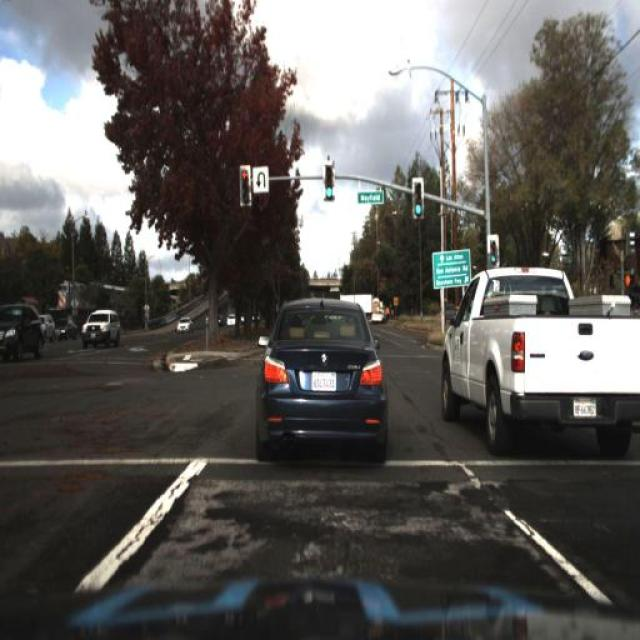car: (436, 259, 636, 459), (253, 300, 388, 472), (0, 304, 42, 360), (77, 305, 119, 354), (54, 314, 80, 348), (37, 312, 59, 348), (369, 293, 387, 336), (174, 312, 195, 338)
trafficLight-GreenLeft: (320, 157, 338, 202), (410, 174, 426, 222), (486, 230, 502, 275)
trafficLight-Yellow: (234, 157, 250, 209)
